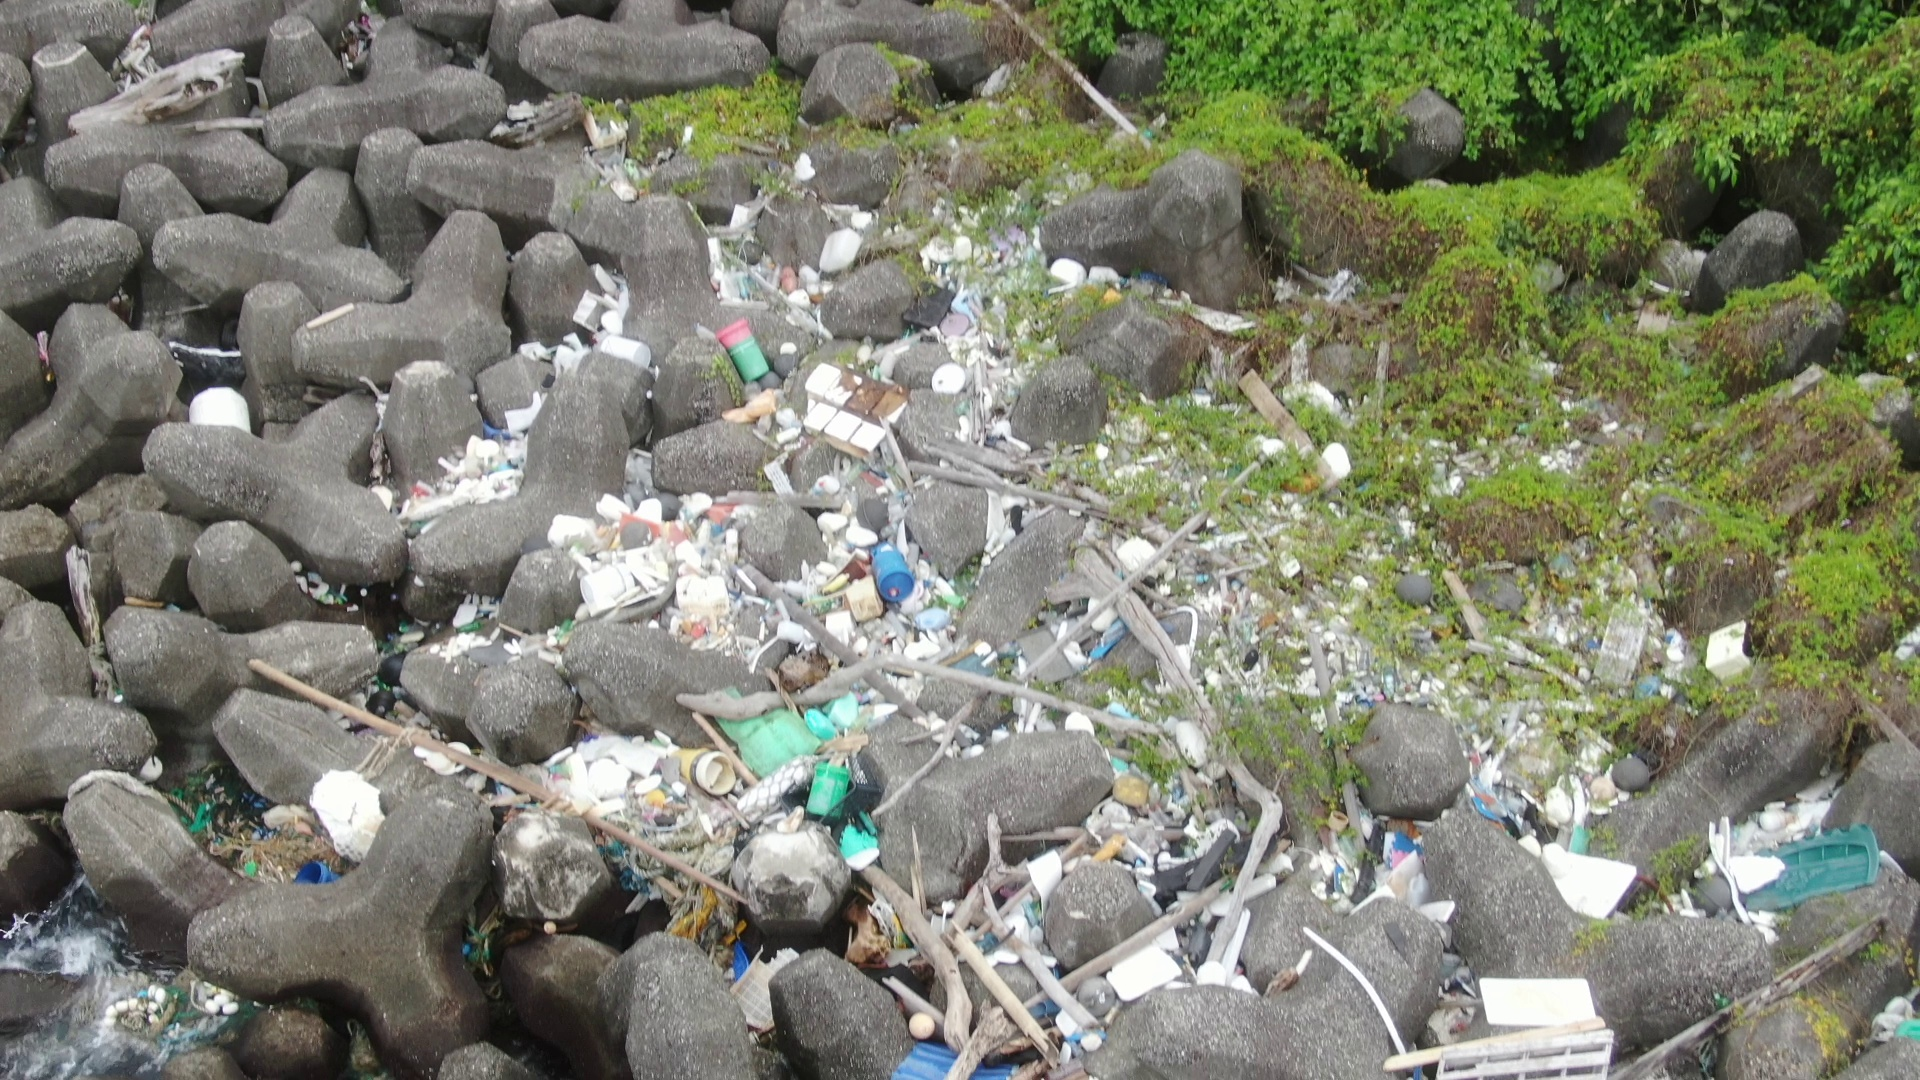garbage: (678, 170, 1234, 479), (895, 717, 1335, 1080), (462, 708, 889, 1054), (539, 491, 1011, 717), (377, 258, 657, 533), (1054, 504, 1385, 698), (1689, 790, 1920, 1042), (1443, 715, 1658, 936), (1357, 945, 1644, 1079), (171, 756, 398, 899), (91, 961, 295, 1069), (1582, 595, 1771, 692), (1244, 371, 1357, 513)
